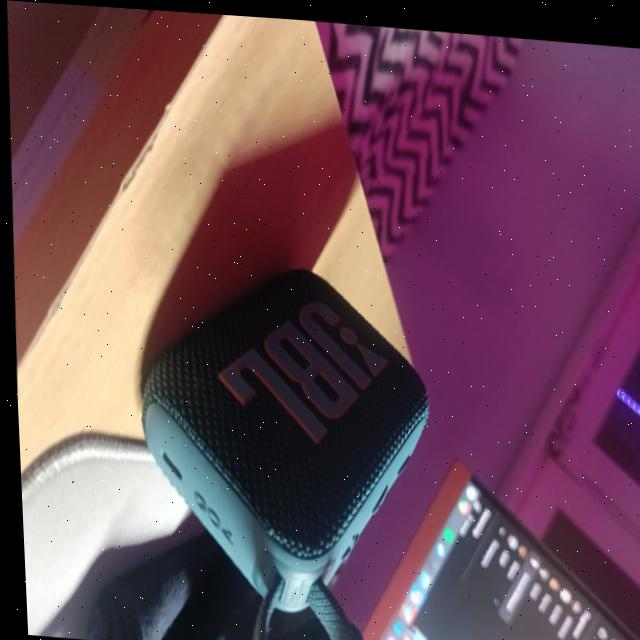column JBL: (123, 252, 446, 640)
